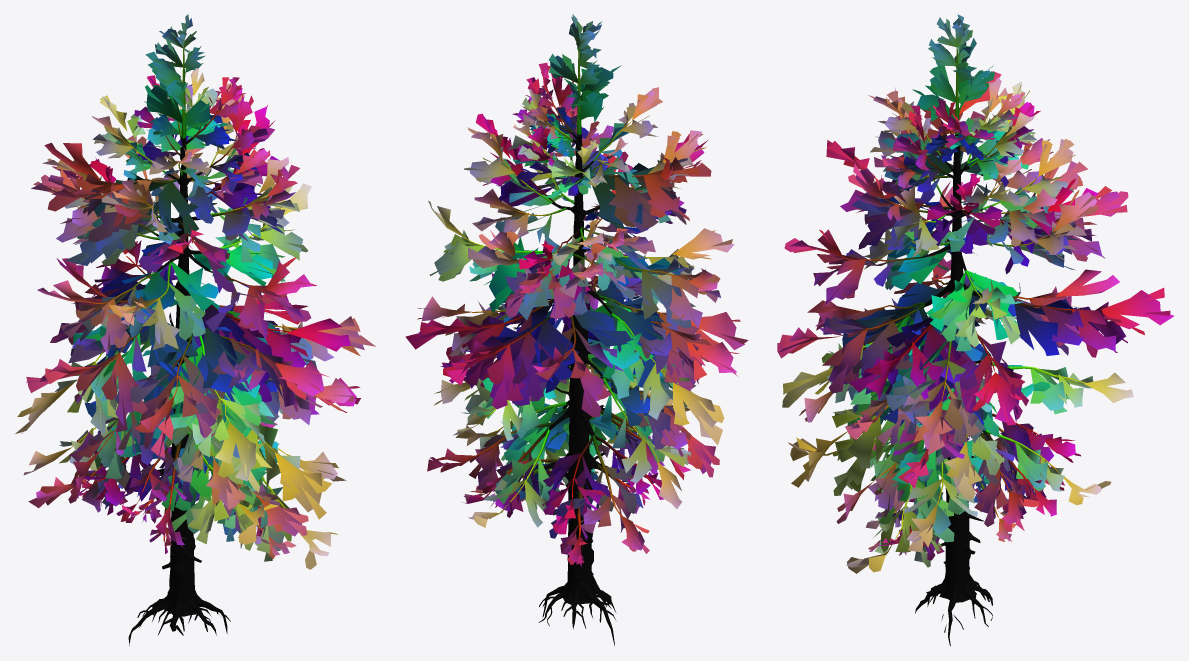
The model's file is SM_SilverFir_L_02.fbx.
3 renders of one model, left to right at view 1: azimuth 30°, elevation 25°; view 2: azimuth 150°, elevation 25°; view 3: azimuth 270°, elevation 25°, orthographic. The views are drawn at different scales.
Visible parts, largest first — view 1: SM_SilverFir_L_02_LOD0; view 2: SM_SilverFir_L_02_LOD0; view 3: SM_SilverFir_L_02_LOD0.
Boxes of the visible parts, x1=… form: SM_SilverFir_L_02_LOD0: x1=15, y1=14, x2=375, y2=645; SM_SilverFir_L_02_LOD0: x1=405, y1=14, x2=748, y2=645; SM_SilverFir_L_02_LOD0: x1=777, y1=14, x2=1173, y2=646.
Bounding box in the file's own units: 916 × 954 × 1622.
